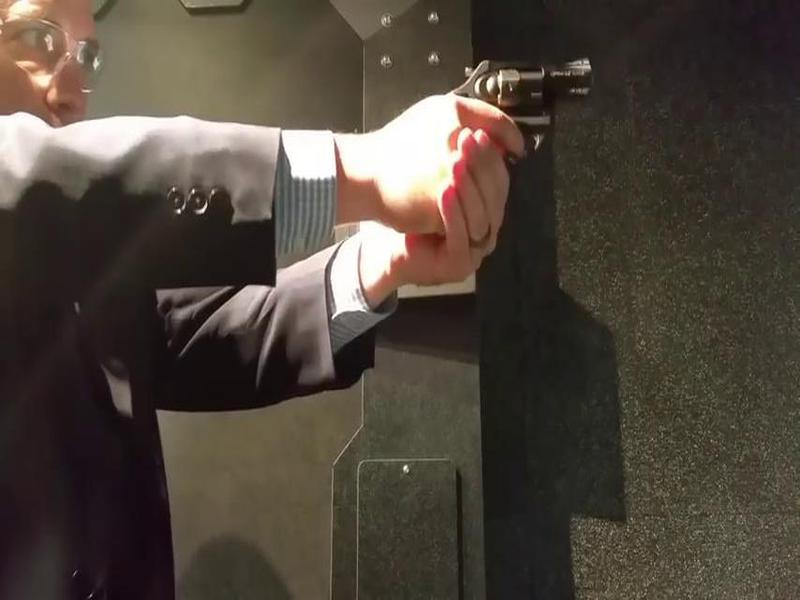Revolver: (452, 25, 596, 179)
